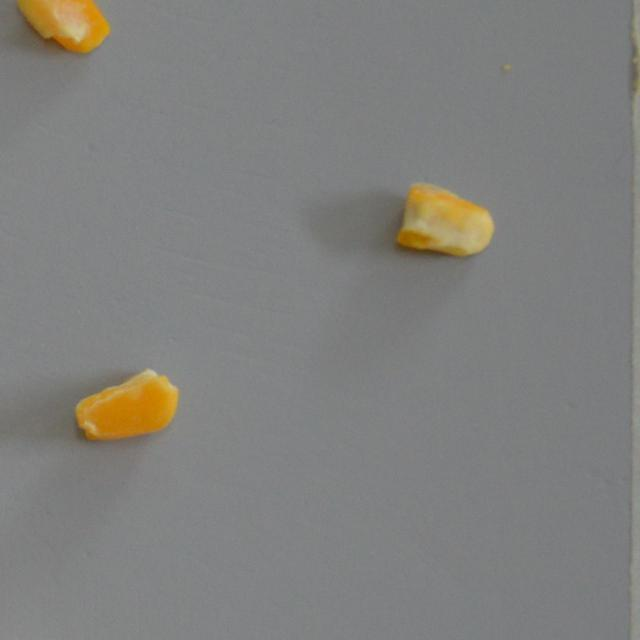dañado: (392, 174, 498, 260), (70, 364, 182, 444), (13, 0, 112, 58)
